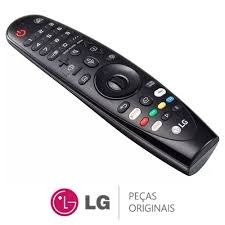remote control: (3, 13, 225, 181)
